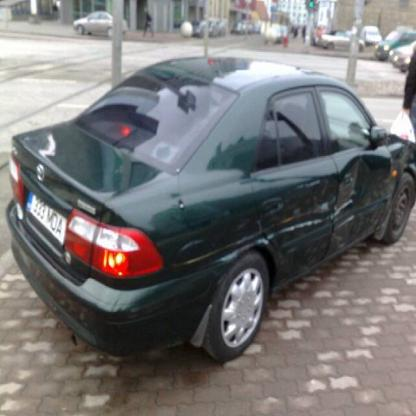Car: (5, 58, 415, 362), (74, 12, 129, 39), (322, 30, 366, 53)
